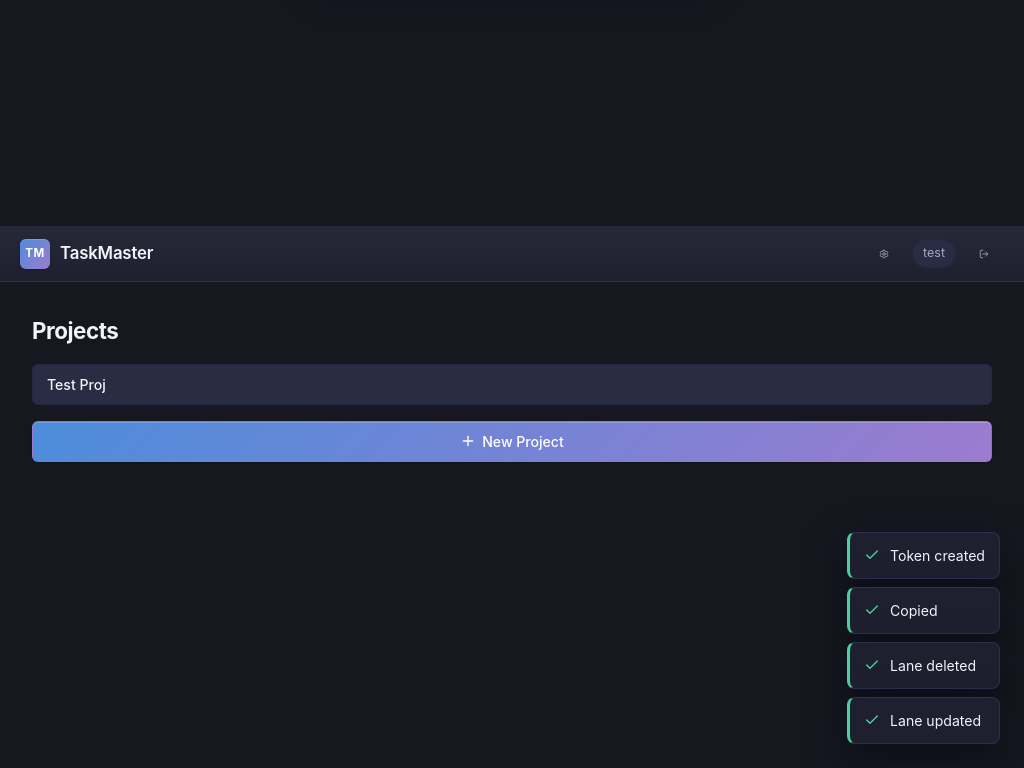
App › lane reorder request includes expectedProjectVersion equal to project version
(page scrolled)
Click the button "Test Proj" at (76, 384), box [32,364,992,405]
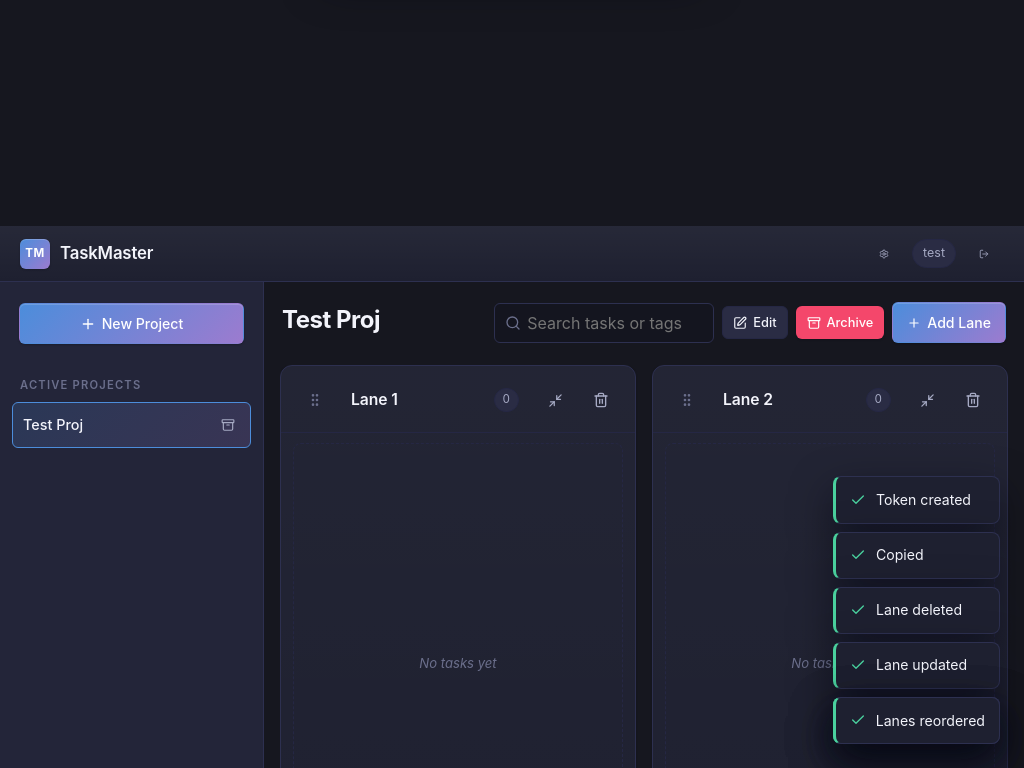
Now the text "Lane 1" is shown, box [351,390,398,409]
